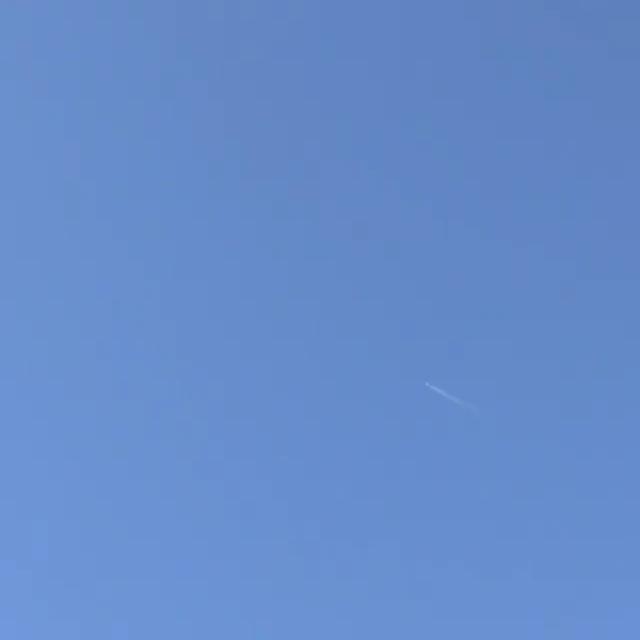AirPlane: (408, 358, 467, 418)
